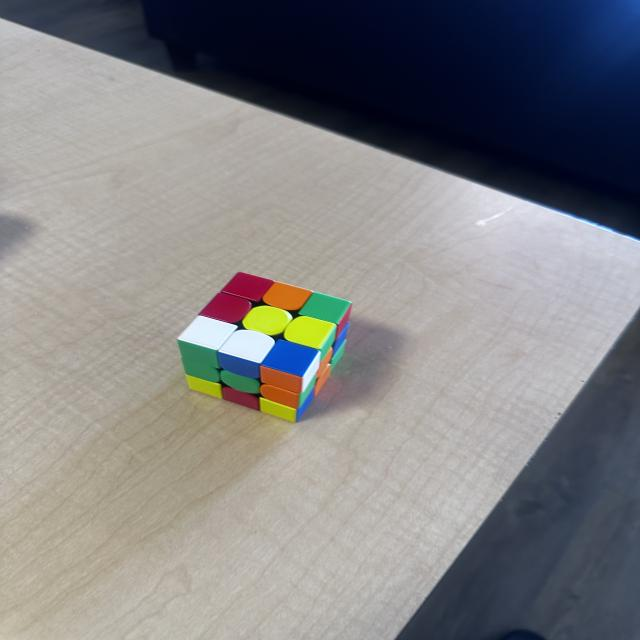sticker: (217, 326, 278, 363), (259, 339, 319, 376), (178, 316, 238, 352), (280, 314, 336, 350), (239, 303, 296, 337), (198, 292, 254, 325), (298, 291, 351, 324), (220, 272, 274, 301), (260, 281, 312, 311)
